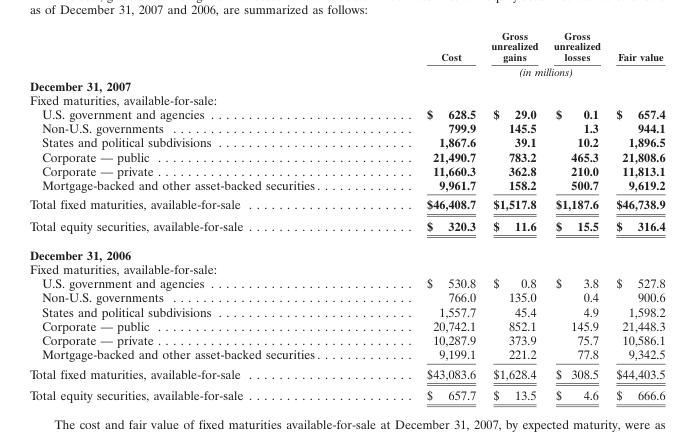table: (28, 29, 664, 402)
table column: (28, 29, 372, 402), (372, 29, 482, 402), (482, 29, 545, 402), (545, 29, 607, 402), (607, 29, 664, 402)
table column header: (28, 29, 664, 77)
table projected row header: (28, 239, 664, 261), (28, 77, 664, 92), (28, 92, 664, 106), (28, 261, 664, 275)
table row: (28, 29, 664, 63), (28, 214, 664, 239), (28, 239, 664, 261), (28, 194, 664, 214), (28, 363, 664, 383), (28, 383, 664, 402), (28, 177, 664, 194), (28, 346, 664, 363), (28, 77, 664, 92), (28, 134, 664, 149), (28, 289, 664, 304), (28, 63, 664, 77), (28, 92, 664, 106), (28, 106, 664, 120), (28, 120, 664, 134), (28, 149, 664, 163), (28, 163, 664, 177), (28, 261, 664, 275), (28, 275, 664, 289), (28, 304, 664, 318), (28, 318, 664, 332), (28, 332, 664, 346)
table spanning cell: (372, 63, 664, 77)
